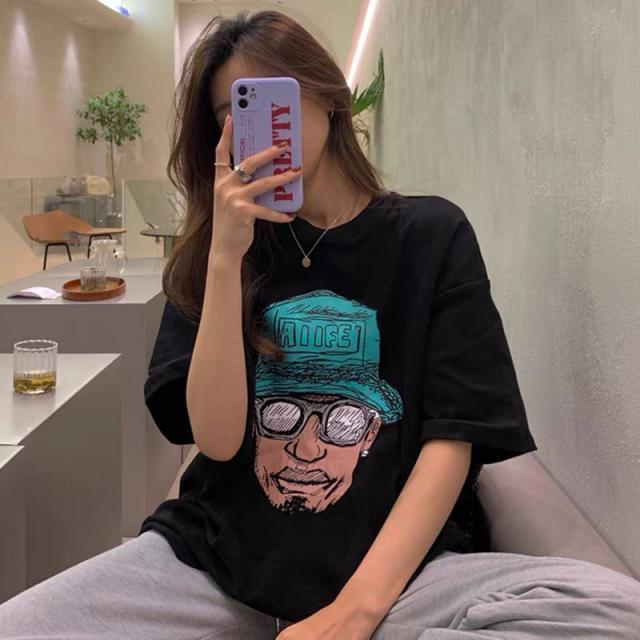Shirt: (142, 191, 540, 615)
